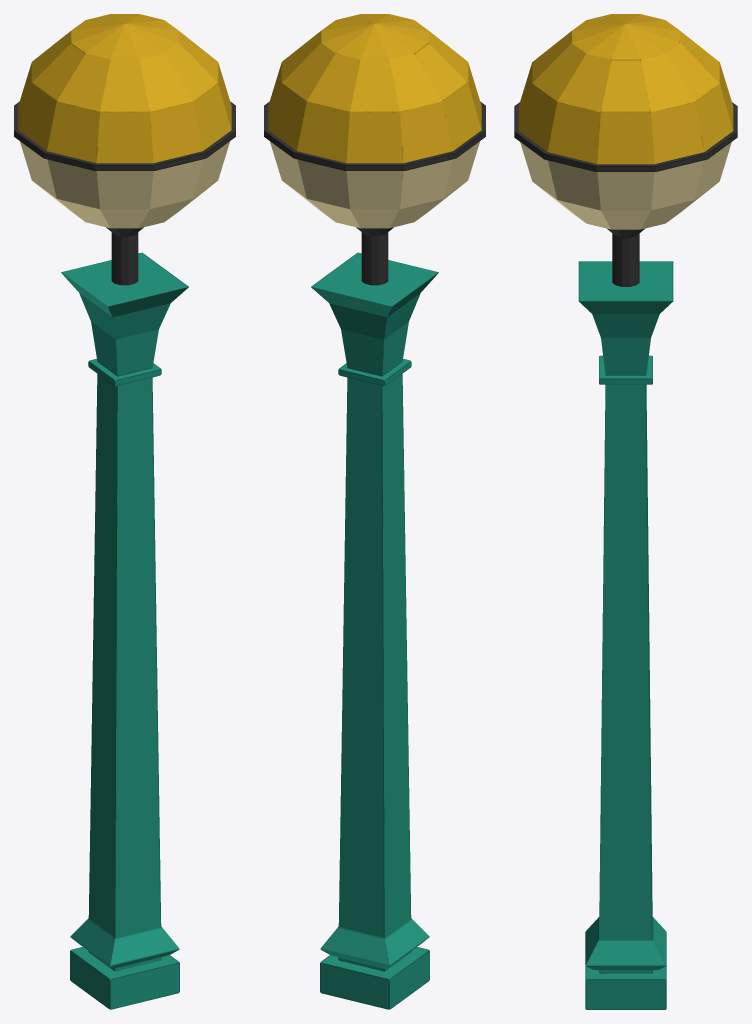
The model's file is nyc_subway_entrance_1_globe_light_1y.obj.
3 renders of one model, left to right at view 1: azimuth 30°, elevation 25°; view 2: azimuth 150°, elevation 25°; view 3: azimuth 270°, elevation 25°, orthographic.
Parts seen in each view (by area): view 1: cube, sphere, cylinder; view 2: cube, sphere, cylinder; view 3: cube, sphere, cylinder.
Boxes of the visible parts, box(x1,y1,x2,y2) form: cube: box(61, 252, 188, 1009); sphere: box(18, 14, 231, 228); cylinder: box(14, 100, 235, 285); cube: box(311, 252, 438, 1009); sphere: box(268, 14, 481, 228); cylinder: box(264, 100, 485, 285); cube: box(578, 261, 673, 1009); sphere: box(518, 14, 733, 229); cylinder: box(514, 102, 737, 286).
Bounding box in the file's own units: 0.5156 × 2.47 × 0.5156.
1 material, 1 textured.
